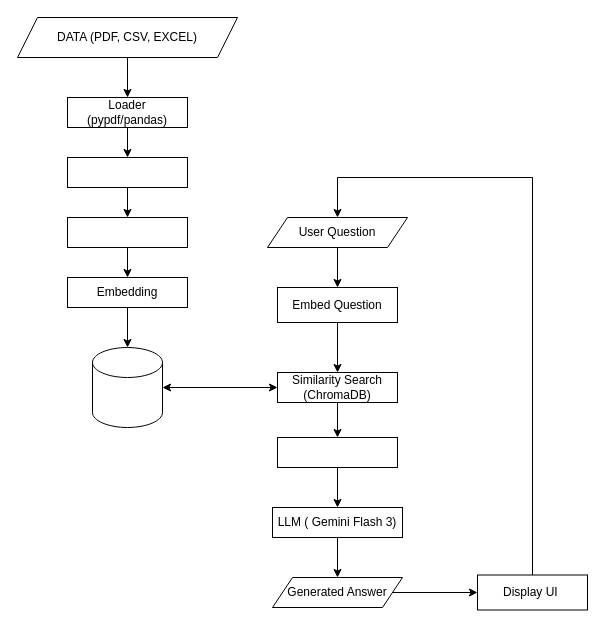
Image size: 605x628. Some labels were removed from this diagram. The shapes that lost their labels are listed below. From the top down, each one's centre as x and y in pixels, then its label:
At [127,172]: "Text Extraction & Prepocessing".
At [127,232]: "Chunking".
At [127,387]: "Vector DB (ChromaDB)".
At [337,452]: "Prompt".
